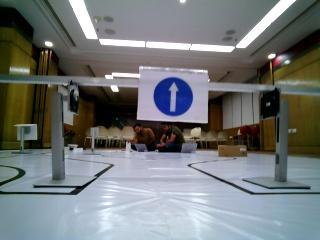straight: (141, 67, 206, 124)
